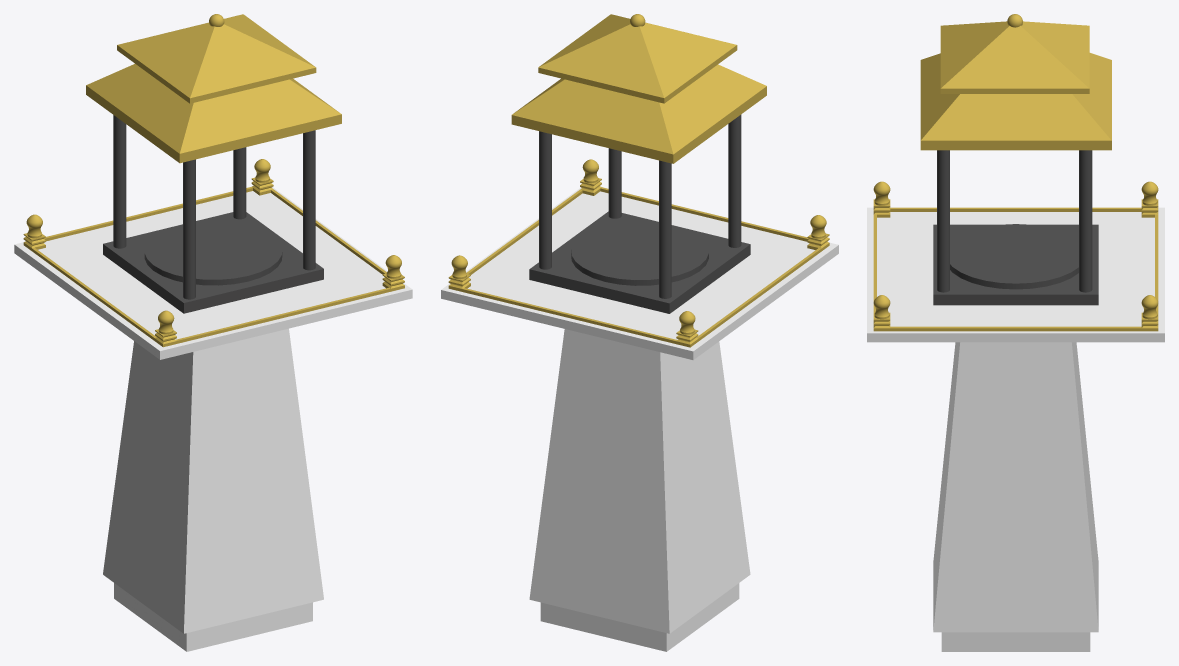
Rendered from Ghouse07.glb.
3 renders of one model, left to right at view 1: azimuth 30°, elevation 25°; view 2: azimuth 150°, elevation 25°; view 3: azimuth 270°, elevation 25°, orthographic. The views are drawn at different scales.
Parts seen in each view (by area): view 1: Part1[121], Part3[128], Part5[255], Part7[277], Part9[284], Part4[131], sema2[160], sema2[212], sema2[134], sema2[186]; view 2: Part1[121], Part3[128], Part5[255], Part7[277], Part9[284], Part4[131], sema2[134], sema2[186], sema2[160], sema2[212]; view 3: Part1[121], Part3[128], Part5[255], Part7[277], Part9[284], Part4[131], sema2[134], sema2[160], sema2[186], sema2[212].
Boxes of the visible parts, x1=… form: Part1[121]: x1=103, y1=328, x2=323, y2=651; Part3[128]: x1=14, y1=187, x2=412, y2=359; Part5[255]: x1=103, y1=115, x2=323, y2=313; Part7[277]: x1=86, y1=64, x2=341, y2=163; Part9[284]: x1=117, y1=14, x2=316, y2=103; Part4[131]: x1=31, y1=187, x2=390, y2=343; sema2[160]: x1=155, y1=310, x2=176, y2=347; sema2[212]: x1=382, y1=255, x2=404, y2=291; sema2[134]: x1=23, y1=214, x2=45, y2=250; sema2[186]: x1=251, y1=159, x2=273, y2=195; Part1[121]: x1=529, y1=329, x2=750, y2=651; Part3[128]: x1=441, y1=187, x2=838, y2=359; Part5[255]: x1=529, y1=114, x2=750, y2=313; Part7[277]: x1=511, y1=64, x2=766, y2=163; Part9[284]: x1=538, y1=14, x2=737, y2=103; Part4[131]: x1=462, y1=187, x2=821, y2=343; sema2[134]: x1=676, y1=311, x2=698, y2=347; sema2[186]: x1=448, y1=255, x2=470, y2=291; sema2[160]: x1=807, y1=215, x2=829, y2=251; sema2[212]: x1=580, y1=159, x2=601, y2=195; Part1[121]: x1=933, y1=342, x2=1098, y2=651; Part3[128]: x1=867, y1=207, x2=1164, y2=342; Part5[255]: x1=933, y1=150, x2=1098, y2=305; Part7[277]: x1=920, y1=53, x2=1111, y2=150; Part9[284]: x1=940, y1=21, x2=1089, y2=93; Part4[131]: x1=873, y1=207, x2=1158, y2=331; sema2[134]: x1=1141, y1=181, x2=1158, y2=217; sema2[160]: x1=873, y1=181, x2=890, y2=217; sema2[186]: x1=1141, y1=295, x2=1158, y2=328; sema2[212]: x1=873, y1=295, x2=890, y2=328.
Bounding box in the file's own units: 0.009 × 0.0203 × 0.009.
Materials: 12 (3 with a texture image).
